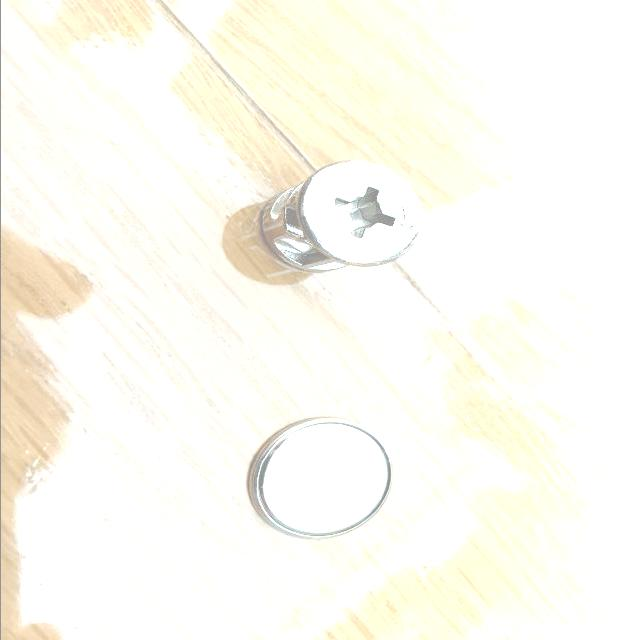COIN: (246, 415, 393, 540)
